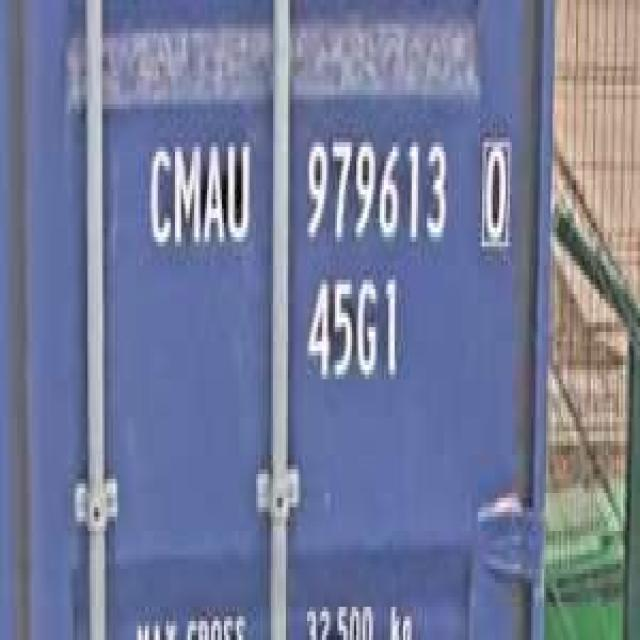dv: (476, 128, 514, 256)
owner: (143, 123, 254, 261)
serial: (299, 123, 452, 256)
size: (301, 266, 405, 394)
